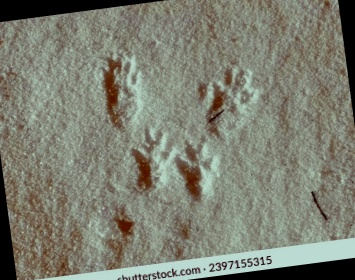ecureuil: (190, 52, 270, 137), (88, 45, 147, 137), (170, 131, 224, 208), (127, 127, 177, 202)
